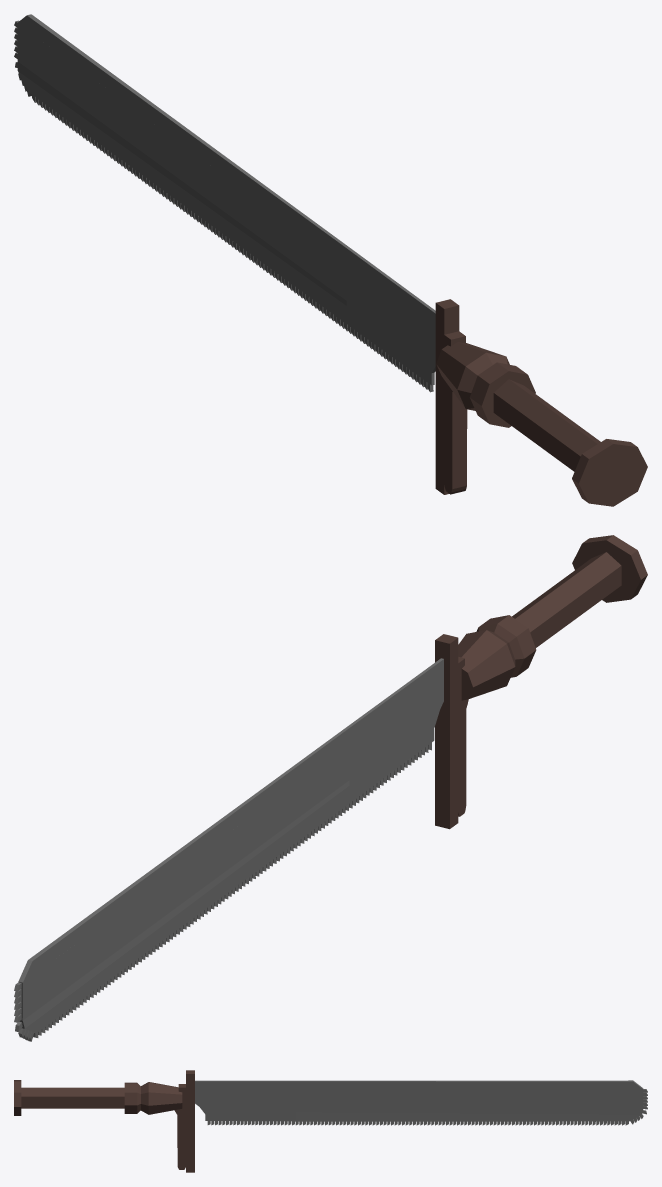
File: chainsword.fbx
3 views of the same model, one above another, from view 1: azimuth 30°, elevation 25°; view 2: azimuth 150°, elevation 25°; view 3: azimuth 270°, elevation 25° (orthographic). The views are drawn at different scales.
Visible parts, largest first — view 1: blade, new handle.001, handle piece, teeth edgeg 4.001; view 2: blade, new handle.001, handle piece, teeth edgeg 4.001; view 3: blade, new handle.001, teeth edgeg 4.001, handle piece.
Part boxes in pixels (box(x1,y1,x2,y2)): blade: box(17, 14, 435, 385); new handle.001: box(436, 342, 647, 506); handle piece: box(435, 299, 467, 494); teeth edgeg 4.001: box(32, 95, 433, 392); blade: box(18, 658, 443, 1033); new handle.001: box(458, 535, 647, 700); handle piece: box(435, 634, 468, 829); teeth edgeg 4.001: box(33, 742, 431, 1037); blade: box(195, 1080, 643, 1121); new handle.001: box(14, 1080, 182, 1115); teeth edgeg 4.001: box(207, 1121, 628, 1125); handle piece: box(174, 1070, 194, 1172).
Size of the model in its own units: 0.5842 by 1.5 by 8.76.
